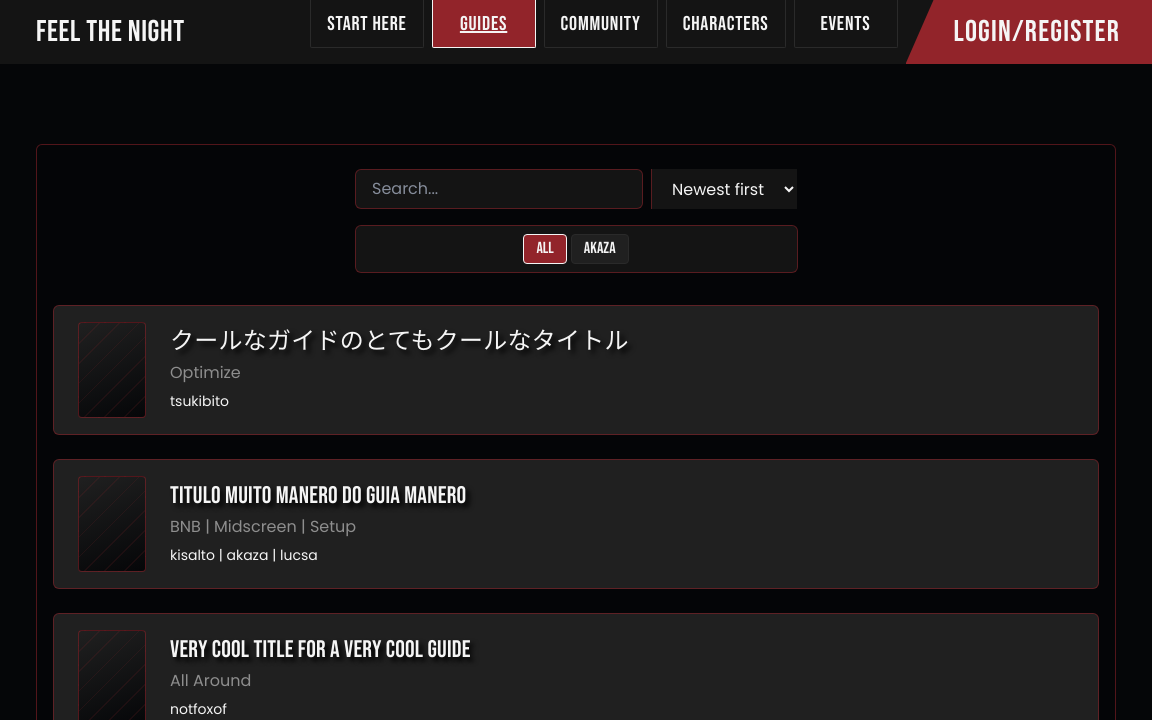
Guides › shows the empty state when nothing matches
Type "zzzz" into the search field named "search guides" at (499, 189), box [355,169,643,209]
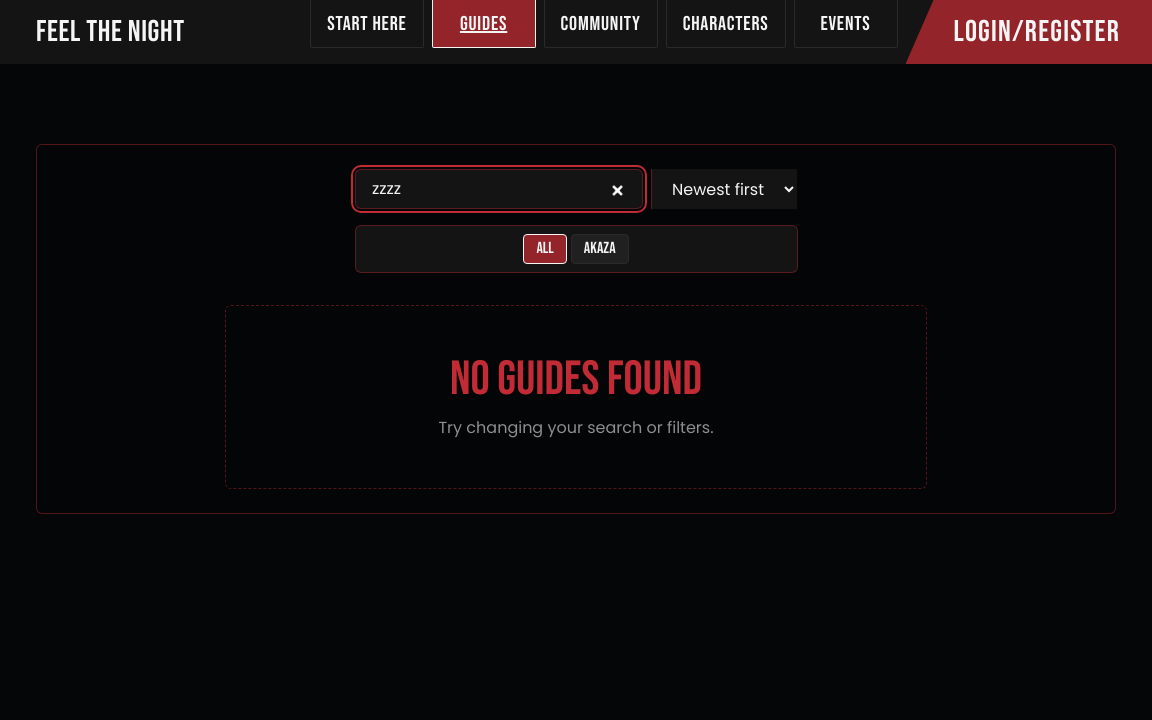
Expected: the text "No guides found" is shown, [450,351,702,408]
Expected: the text "Try changing your search or filters." is shown, [438,416,714,439]
